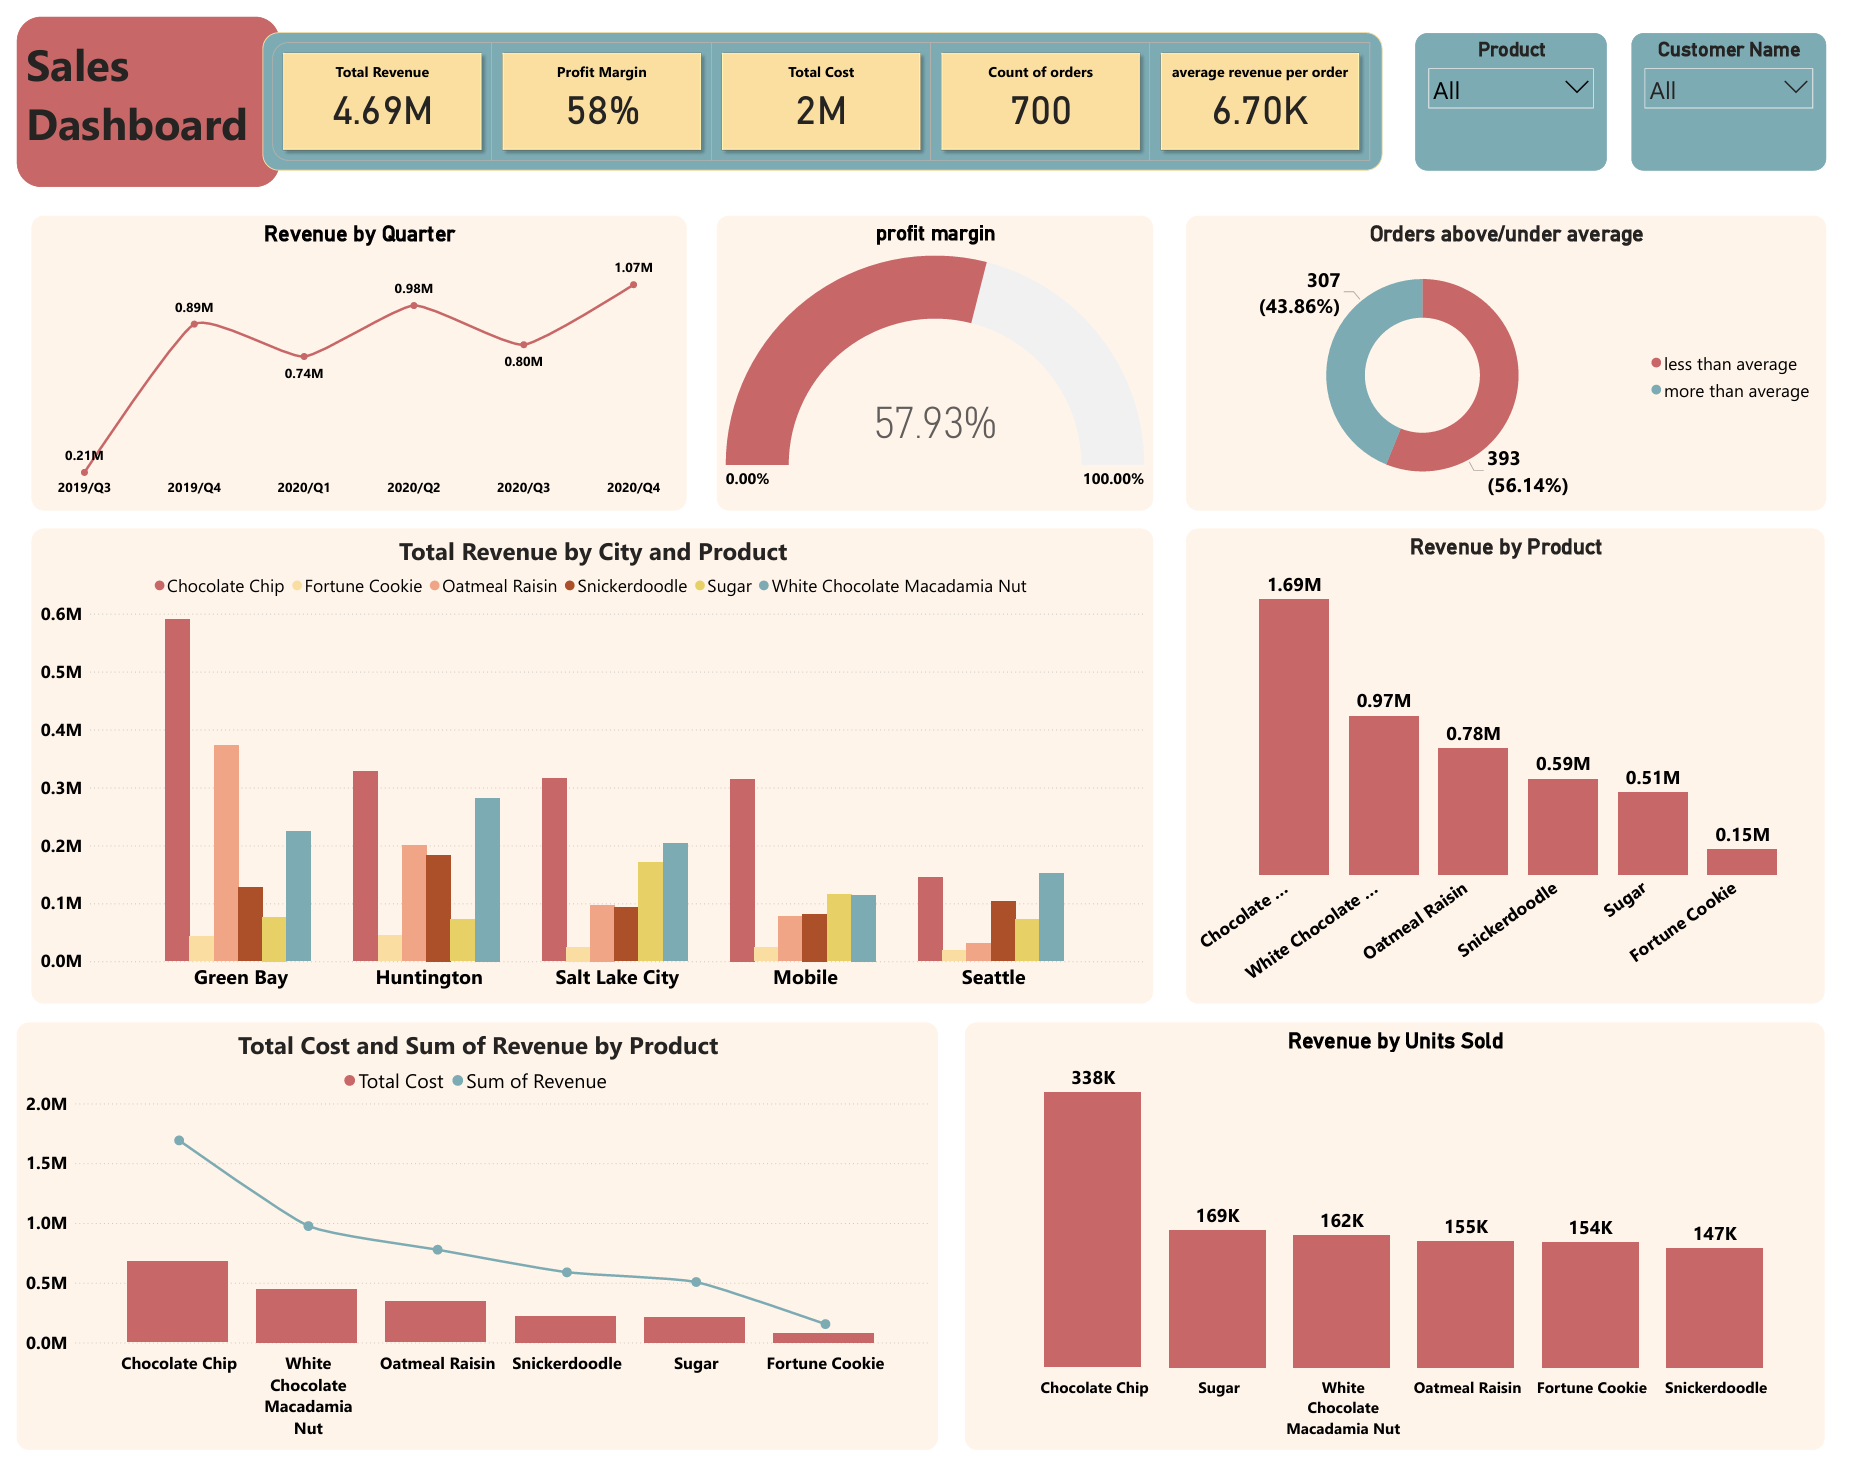

Layout of this report page (visuals, bound fields, positions):
{"tool":"powerbi","page":{"name":"Page 1","canvas":[2250,1750],"ordinal":0},"visuals":[{"type":"lineChart","title":"Revenue by Quarter","fields":{"Y":["Orders.sum of sales"],"Category":["Dim_Date.Year quarter"]},"box":[17.5,242.5,800,360],"z":0},{"type":"textbox","box":[0,0,321.2,208.2],"z":1000},{"type":"cardVisual","fields":{"Data":["Orders.sum of sales","Orders.Profit Margin","Orders.Total Cost","Orders.Count of orders","Orders.average revenue per order"]},"box":[299.7,18.6,1368.5,169.6],"z":2000},{"type":"columnChart","title":"Revenue by Product","fields":{"Y":["Orders.Total sales"],"Category":["Orders.Product"]},"box":[1427.5,625,780,580],"z":3000},{"type":"donutChart","title":"Orders above/under average","fields":{"Category":["Orders.Orders above/under average"],"Y":["Orders.Count of orders"]},"box":[1427.5,242.5,782.5,360],"z":4000},{"type":"gauge","title":"profit margin","fields":{"Y":["Orders.Profit Margin"]},"box":[855,242.5,532.5,360],"z":5000},{"type":"slicer","title":"Customer Name","fields":{"Values":["Customers.Name"]},"box":[1972,20,238,168],"z":6000},{"type":"slicer","title":"Product","fields":{"Values":["Orders.Product"]},"box":[1708,20,234,168],"z":7000},{"type":"clusteredColumnChart","fields":{"Category":["Customers.City"],"Series":["Orders.Product"],"Y":["Orders.Total sales"]},"box":[17.5,625,1370,580],"z":8000},{"type":"columnChart","title":"Revenue by Units Sold","fields":{"Y":["Orders.Units Sold"],"Category":["Orders.Product"]},"box":[1157.5,1227.5,1050,522.5],"z":9000},{"type":"lineClusteredColumnComboChart","fields":{"Category":["Orders.Product"],"Y":["Orders.Total Cost"],"Y2":["Orders.Revenue"]},"box":[0,1227.5,1125,522.5],"z":10000}]}

Visuals, with their boxes in screenshot pixels (x1, y1, x2, y2), scaled from the page's 2250x1750 canvas onto the 1854x1467 screenshot:
"Revenue by Quarter" lineChart: x1=14, y1=203, x2=674, y2=505
textbox: x1=0, y1=0, x2=265, y2=175
cardVisual - Orders.sum of sales x Orders.Profit Margin: x1=247, y1=16, x2=1375, y2=158
"Revenue by Product" columnChart: x1=1176, y1=524, x2=1819, y2=1010
"Orders above/under average" donutChart: x1=1176, y1=203, x2=1821, y2=505
"profit margin" gauge: x1=705, y1=203, x2=1143, y2=505
"Customer Name" slicer: x1=1625, y1=17, x2=1821, y2=158
"Product" slicer: x1=1407, y1=17, x2=1600, y2=158
clusteredColumnChart - Customers.City x Orders.Product: x1=14, y1=524, x2=1143, y2=1010
"Revenue by Units Sold" columnChart: x1=954, y1=1029, x2=1819, y2=1466
lineClusteredColumnComboChart - Orders.Product x Orders.Total Cost: x1=0, y1=1029, x2=927, y2=1466
